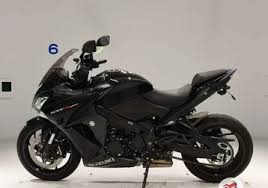Motorbike: (17, 34, 253, 182)
